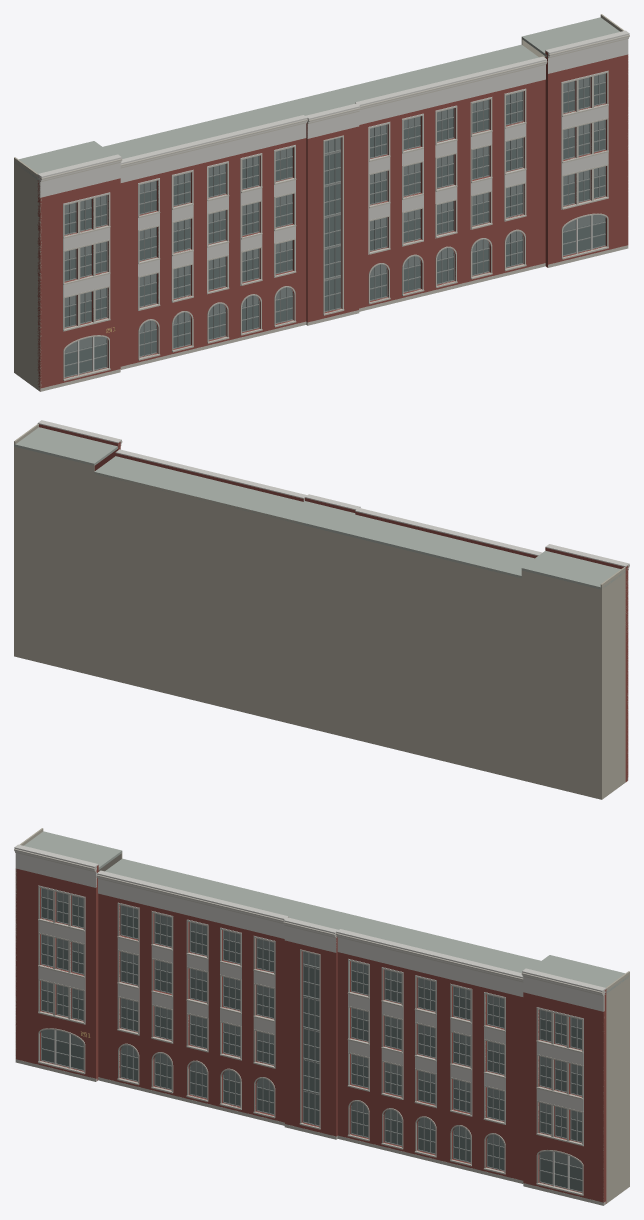
Rendered from huangpu-aurora-university-library-lod.glb.
The picture shows the model from 3 angles, top to bottom: view 1: azimuth 30°, elevation 25°; view 2: azimuth 150°, elevation 25°; view 3: azimuth 330°, elevation 25°; orthographic projection.
Parts seen in each view (by area): view 1: 震旦大学图书馆教学大楼（西一号楼）球场侧立面; view 2: 震旦大学图书馆教学大楼（西一号楼）球场侧立面; view 3: 震旦大学图书馆教学大楼（西一号楼）球场侧立面.
Part boxes in pixels (x1,y1,x2,y2): 震旦大学图书馆教学大楼（西一号楼）球场侧立面: [14, 14, 629, 391]; 震旦大学图书馆教学大楼（西一号楼）球场侧立面: [14, 420, 629, 799]; 震旦大学图书馆教学大楼（西一号楼）球场侧立面: [14, 828, 629, 1205].
Bounding box in the file's own units: 59.7 × 20.97 × 4.93.
